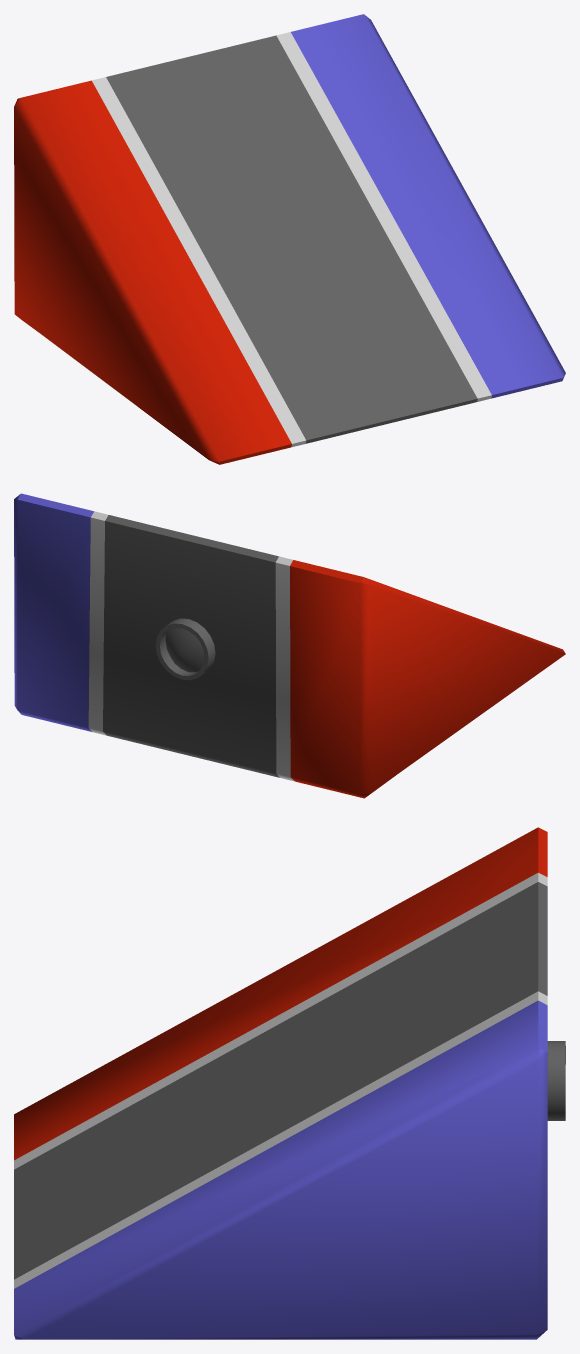
File: dai_ver1.fbx
3 renders of one model, top to bottom at view 1: azimuth 30°, elevation 25°; view 2: azimuth 150°, elevation 25°; view 3: azimuth 270°, elevation 25°, orthographic. The views are drawn at different scales.
Visible parts, largest first — view 1: obj1; view 2: obj1; view 3: obj1.
Boxes of the visible parts, box(x1,y1,x2,y2) form: obj1: box(14, 14, 565, 464); obj1: box(14, 493, 565, 798); obj1: box(14, 827, 565, 1339).
Size of the model in its own units: 200 by 119 by 203.
